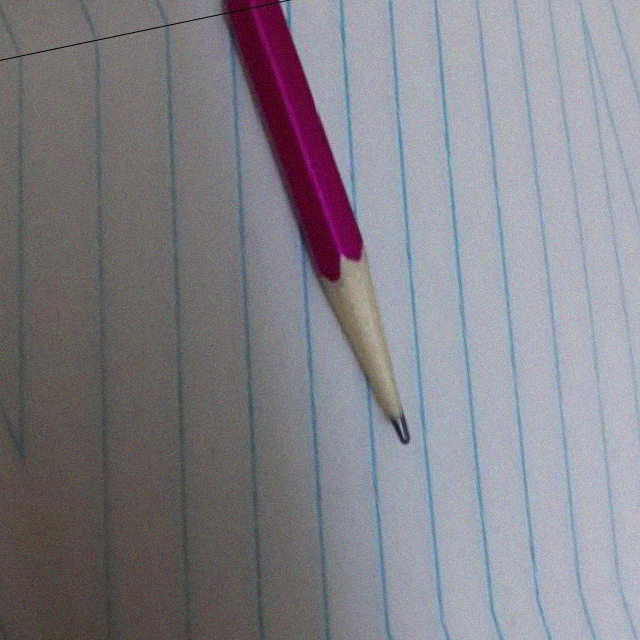pencil: (314, 238, 436, 462)
